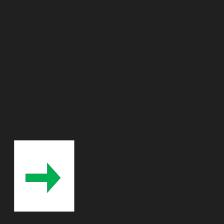right: (22, 160, 63, 196)
